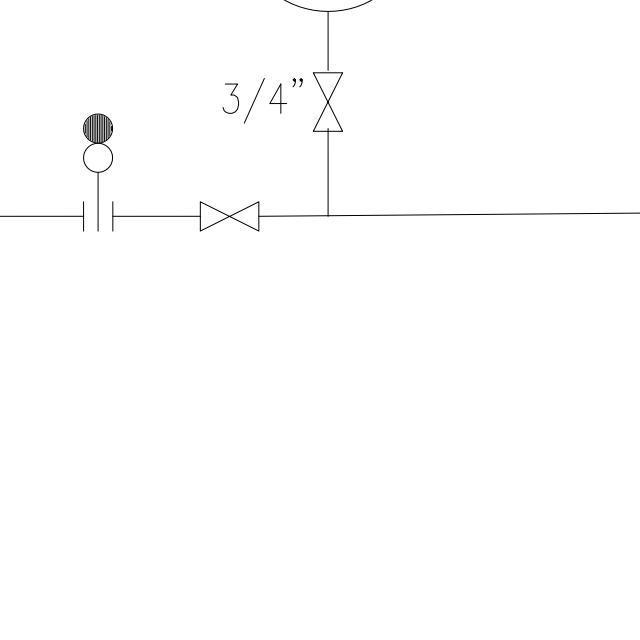GV: (194, 196, 267, 235), (308, 68, 346, 139)
